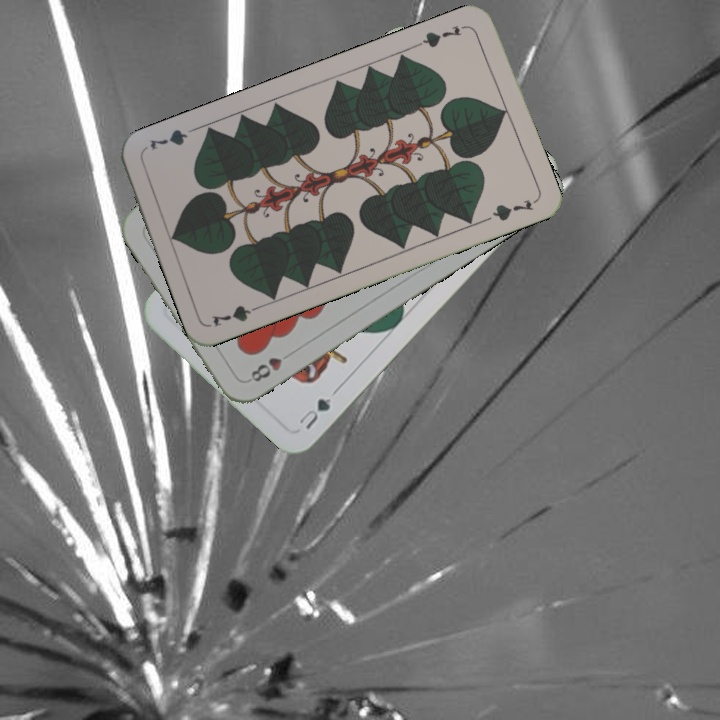G7: (207, 300, 266, 329), (413, 20, 470, 50)
GU: (295, 386, 340, 432)
H8: (246, 347, 296, 385)
